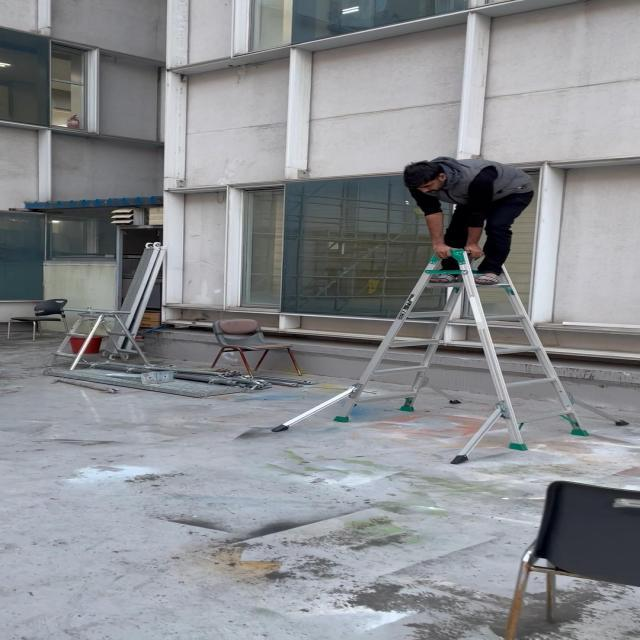boots: (268, 238, 632, 468)
vest: (388, 152, 542, 284)
